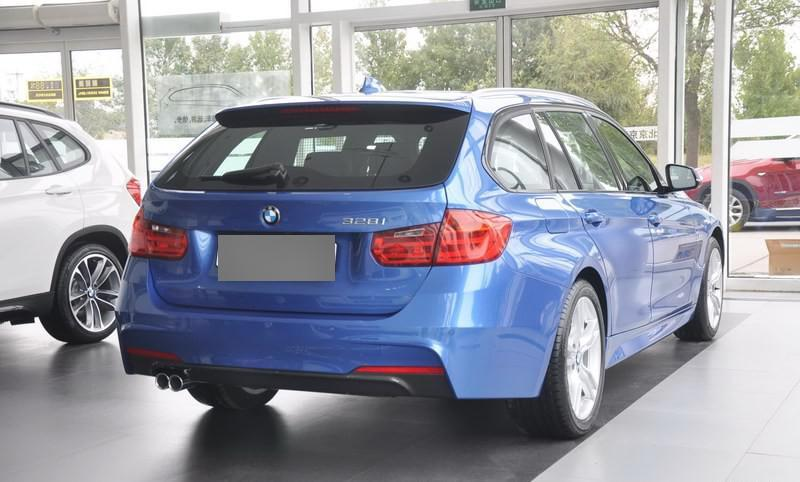Wagon: (114, 74, 727, 439)
